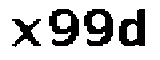9: (81, 5, 116, 52), (46, 5, 79, 50)
d: (115, 8, 149, 50)
x: (9, 17, 44, 53)
